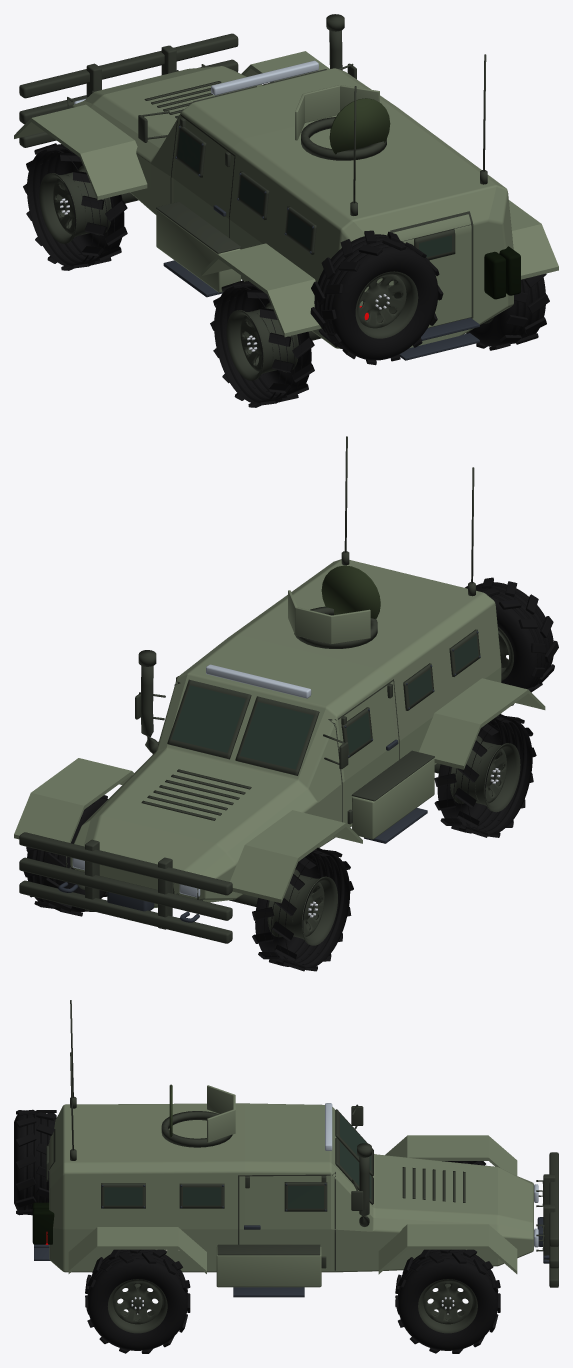
Rendered from ArmoredTruck.fbx.
3 renders of one model, top to bottom at view 1: azimuth 30°, elevation 25°; view 2: azimuth 150°, elevation 25°; view 3: azimuth 270°, elevation 25°, orthographic. The views are drawn at different scales.
Visible parts, largest first — view 1: ArmoredTruck_Body, ArmoredTruck_Trim2, ArmoredTruck_Trim, ArmoredTruck_Wheel3, ArmoredTruck_Wheel1, ArmoredTruck_Wheel4, ArmoredTruck_Glass, ArmoredTruck_Lights; view 2: ArmoredTruck_Body, ArmoredTruck_Trim2, ArmoredTruck_Trim, ArmoredTruck_Wheel3, ArmoredTruck_Wheel1, ArmoredTruck_Glass, ArmoredTruck_Wheel2, ArmoredTruck_Lights; view 3: ArmoredTruck_Body, ArmoredTruck_Trim2, ArmoredTruck_Wheel2, ArmoredTruck_Wheel4, ArmoredTruck_Trim, ArmoredTruck_Glass, ArmoredTruck_Lights.
Boxes of the visible parts, x1=… form: ArmoredTruck_Body: x1=14, y1=51, x2=558, y2=348; ArmoredTruck_Trim2: x1=19, y1=14, x2=520, y2=360; ArmoredTruck_Trim: x1=192, y1=69, x2=473, y2=365; ArmoredTruck_Wheel3: x1=210, y1=280, x2=314, y2=407; ArmoredTruck_Wheel1: x1=23, y1=143, x2=127, y2=270; ArmoredTruck_Wheel4: x1=466, y1=273, x2=549, y2=350; ArmoredTruck_Glass: x1=177, y1=130, x2=451, y2=257; ArmoredTruck_Lights: x1=74, y1=60, x2=368, y2=319; ArmoredTruck_Body: x1=14, y1=559, x2=545, y2=907; ArmoredTruck_Trim2: x1=19, y1=436, x2=480, y2=943; ArmoredTruck_Trim: x1=167, y1=577, x2=558, y2=775; ArmoredTruck_Wheel3: x1=434, y1=714, x2=536, y2=837; ArmoredTruck_Wheel1: x1=252, y1=847, x2=353, y2=971; ArmoredTruck_Glass: x1=172, y1=635, x2=478, y2=769; ArmoredTruck_Wheel2: x1=23, y1=795, x2=107, y2=916; ArmoredTruck_Lights: x1=72, y1=664, x2=311, y2=897; ArmoredTruck_Body: x1=48, y1=1085, x2=533, y2=1287; ArmoredTruck_Trim2: x1=32, y1=1000, x2=558, y2=1297; ArmoredTruck_Wheel2: x1=395, y1=1249, x2=500, y2=1353; ArmoredTruck_Wheel4: x1=85, y1=1249, x2=190, y2=1353; ArmoredTruck_Trim: x1=14, y1=1109, x2=373, y2=1250; ArmoredTruck_Glass: x1=104, y1=1114, x2=371, y2=1208; ArmoredTruck_Lights: x1=45, y1=1103, x2=538, y2=1247.
Size of the model in its own units: 11.27 by 12.61 by 22.84.
